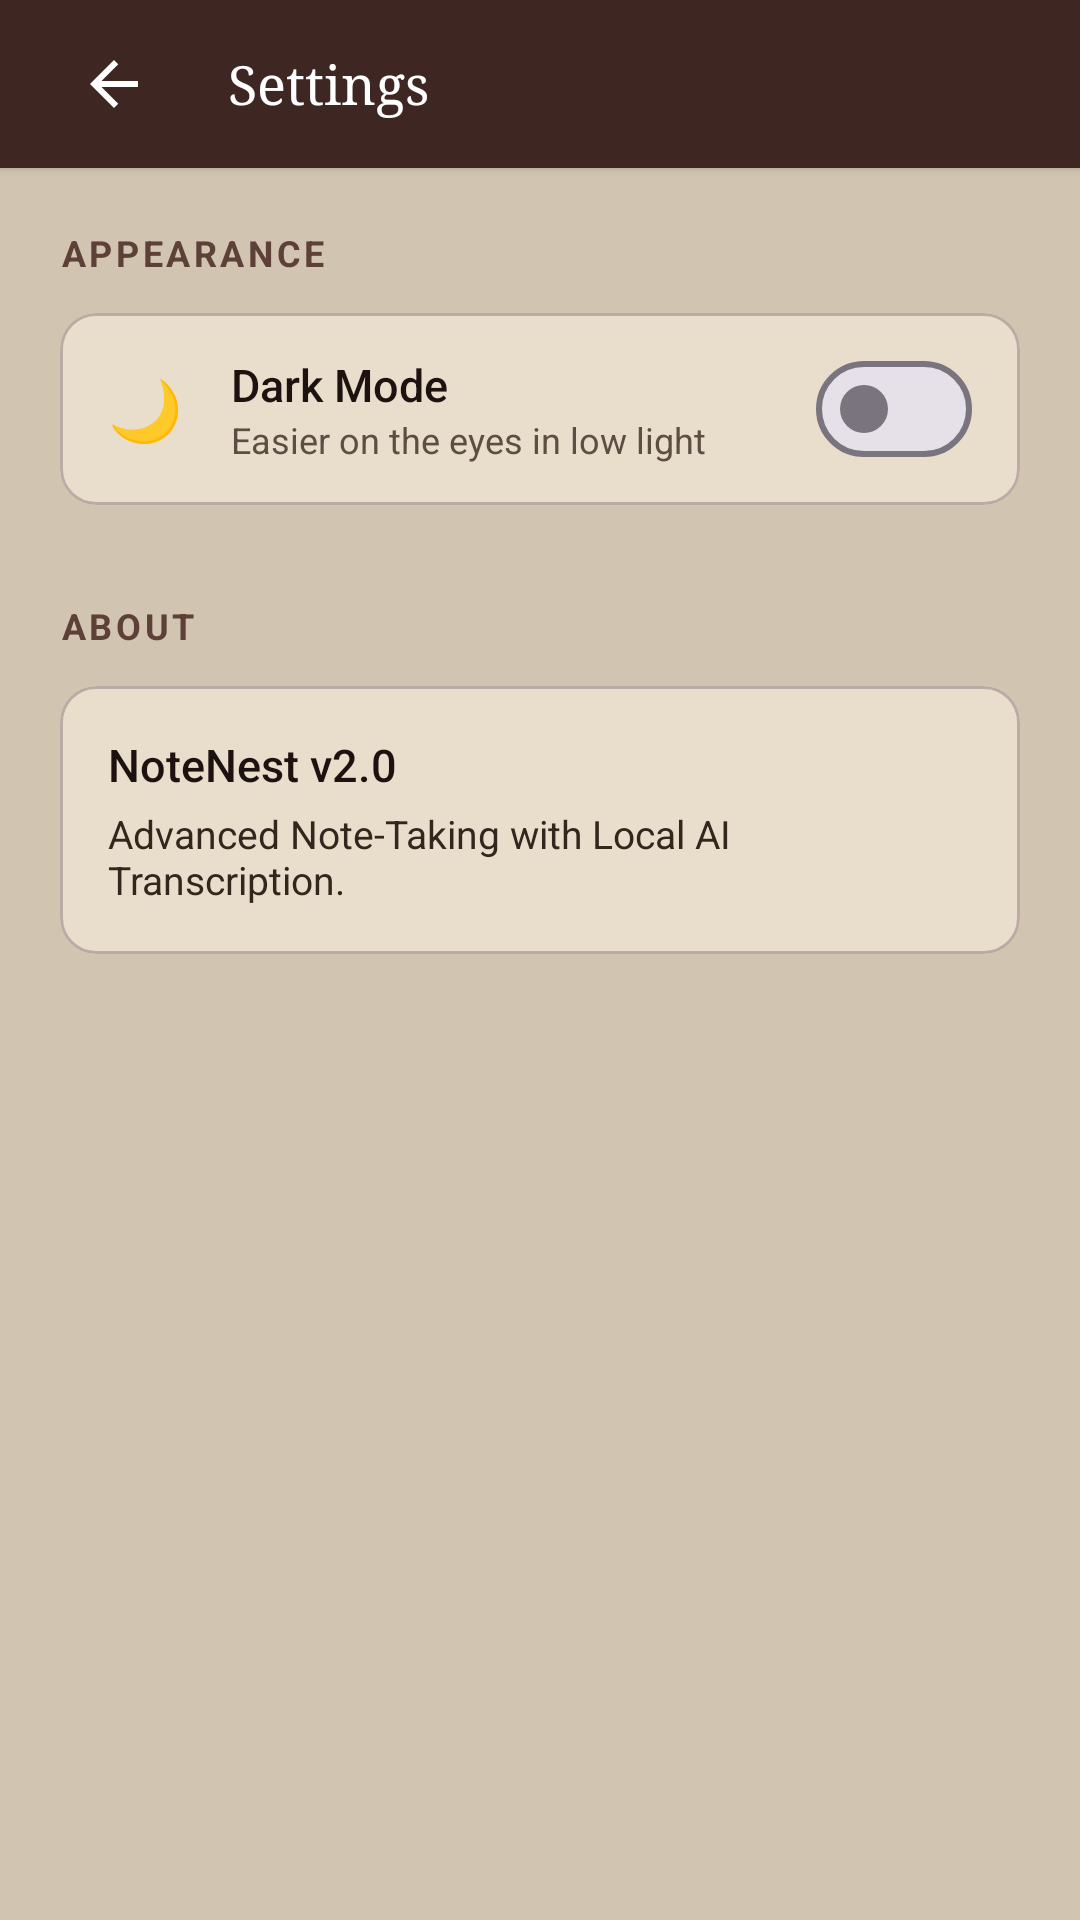

Icons on this 1080×1920 Android screen, each with the point to tap as [x,y]:
arrow back: [114,84]
